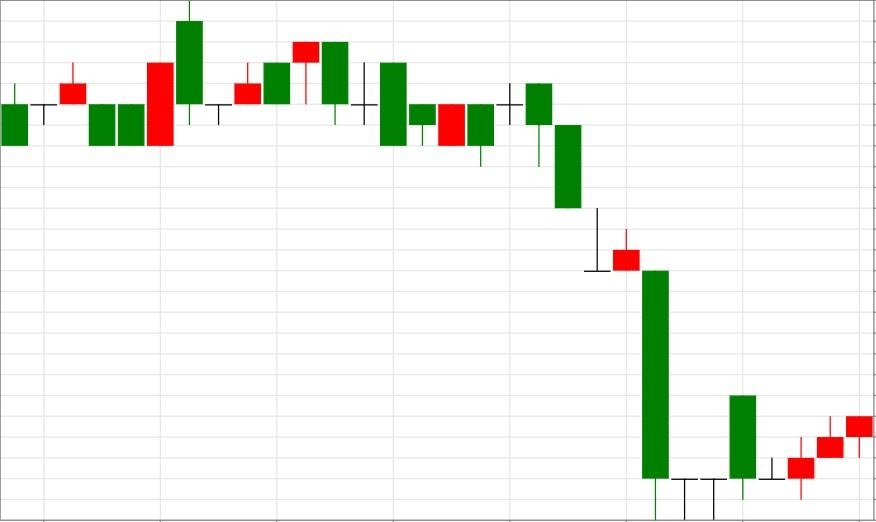bearish_engulfing_fall: (204, 41, 349, 126)
bullish_engulfing_rise: (59, 61, 175, 147)
